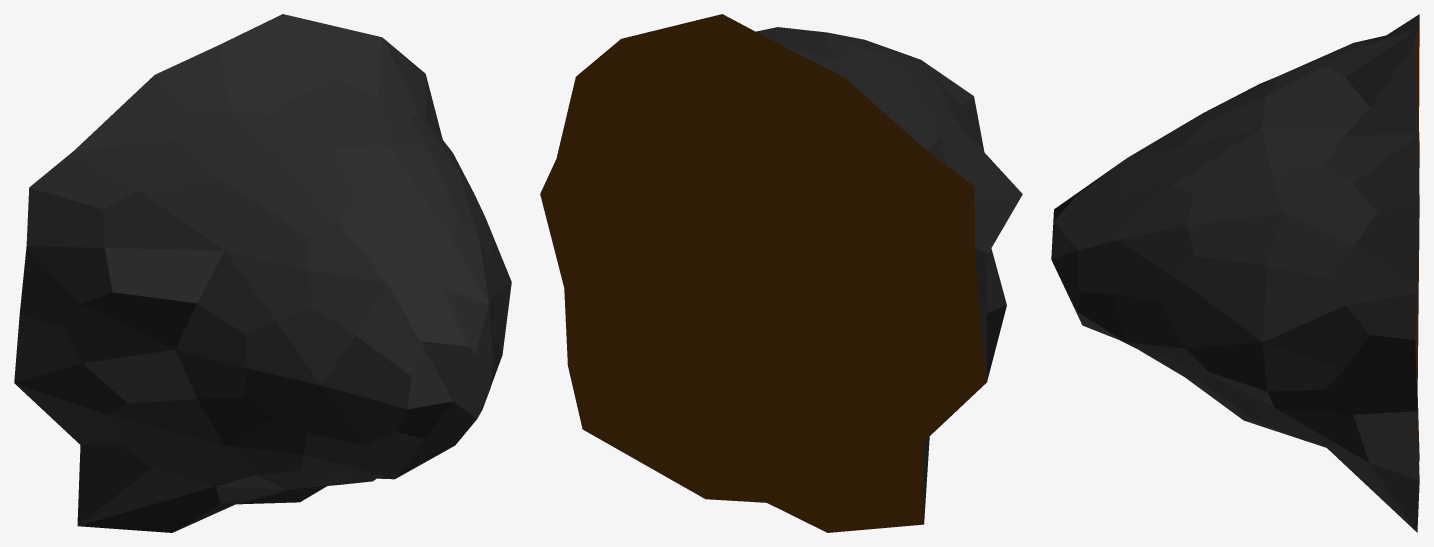
File: FloatingIsland02.fbx
The picture shows the model from 3 angles, left to right: view 1: azimuth 30°, elevation 25°; view 2: azimuth 150°, elevation 25°; view 3: azimuth 270°, elevation 25°; orthographic projection. The views are drawn at different scales.
Visible parts, largest first — view 1: FloatingIsland02; view 2: FloatingIsland02; view 3: FloatingIsland02.
Part boxes in pixels (x1,y1,x2,y2): FloatingIsland02: (14, 14, 511, 532); FloatingIsland02: (540, 14, 1022, 532); FloatingIsland02: (1051, 14, 1419, 532).
Size of the model in its own units: 257208 by 269367 by 192469.
